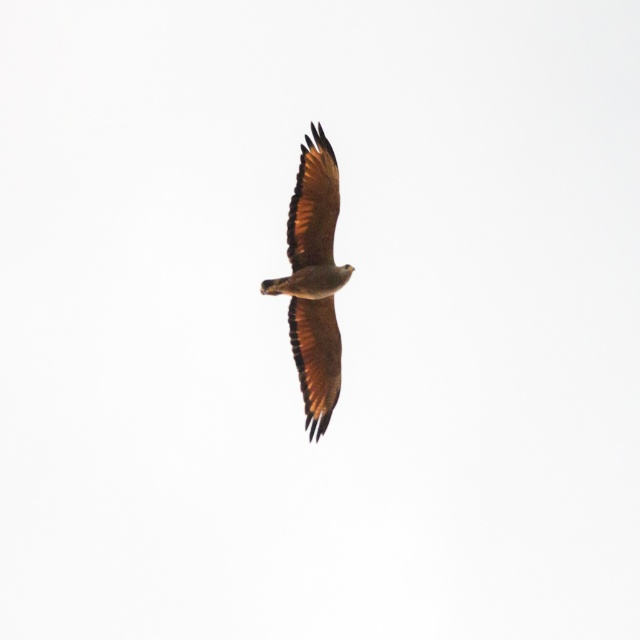Eagle: (252, 115, 359, 460)
